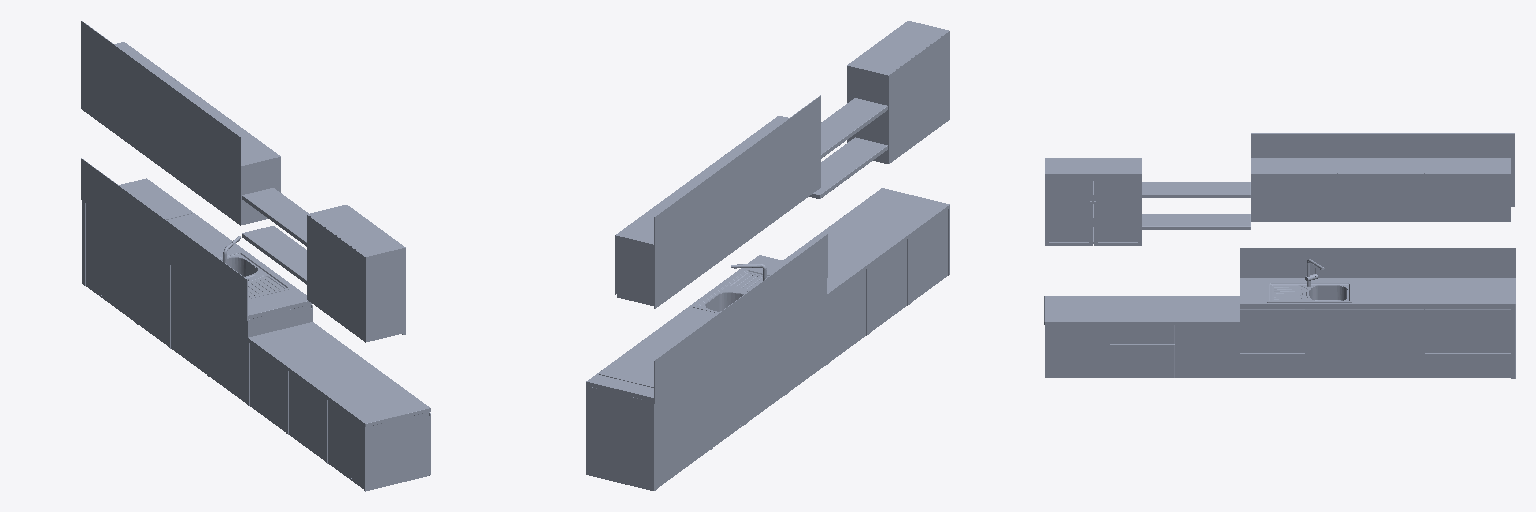
URDF robot description (Kitchen_model):
<?xml version="1.0" encoding="utf-8"?>
<!-- This URDF was automatically created by SolidWorks to URDF Exporter! Originally created by Stephen Brawner (brawner@gmail.com) 
     Commit Version: 1.6.0-1-g15f4949  Build Version: 1.6.7594.29634
     For more information, please see http://wiki.ros.org/sw_urdf_exporter -->
<robot
  name="Kitchen_model">
  <link name="world"/>
  <joint name="world_to_base" type="fixed">
    <origin rpy="0 0 0" xyz="0 0 0.0"/>
    <parent link="world"/>
    <child link="base_link"/>
  </joint>
  <link
    name="base_link">
    <inertial>
      <origin
        xyz="0.272272013031469 2.25341345329778 0.800825814405321"
        rpy="0 0 0" />
      <mass
        value="462.317674602313" />
      <inertia
        ixx="95.9209401208235"
        ixy="-0.0807962602107836"
        ixz="-0.112205372435676"
        iyy="32.0133582426385"
        iyz="-0.0169278359413389"
        izz="90.6530768217412" />
    </inertial>
    <visual>
      <origin
        xyz="0 0 0"
        rpy="0 0 0" />
      <geometry>
        <mesh
          filename="package://./meshes/base_link.STL" />
      </geometry>
      <material
        name="">
        <color
          rgba="0.666666666666667 0.698039215686274 0.768627450980392 1" />
      </material>
    </visual>
    <collision>
      <origin
        xyz="0 0 0"
        rpy="0 0 0" />
      <geometry>
        <mesh
          filename="package://./meshes/base_link.STL" />
      </geometry>
    </collision>
  </link>
</robot>

--- Facts derived from the render (not from the file) ---
The picture shows the robot from 3 angles, left to right: view 1: azimuth 30°, elevation 25°; view 2: azimuth 150°, elevation 25°; view 3: azimuth 270°, elevation 25°; orthographic projection.
Model Kitchen_model with 2 links and 1 joints (1 fixed), rooted at world, posed every joint at zero.
Visible links, largest first — view 1: base_link; view 2: base_link; view 3: base_link.
Link boxes in pixels (left/top/right/bottom): base_link: left=81, top=21, right=430, bottom=491; base_link: left=586, top=21, right=949, bottom=490; base_link: left=1044, top=133, right=1515, bottom=378.
Size in the robot's own frame: 0.5851 by 4.34 by 2.22 metres.
Meshes: 1 distinct files referenced, 1 mesh visuals loaded (1 binary STL).
